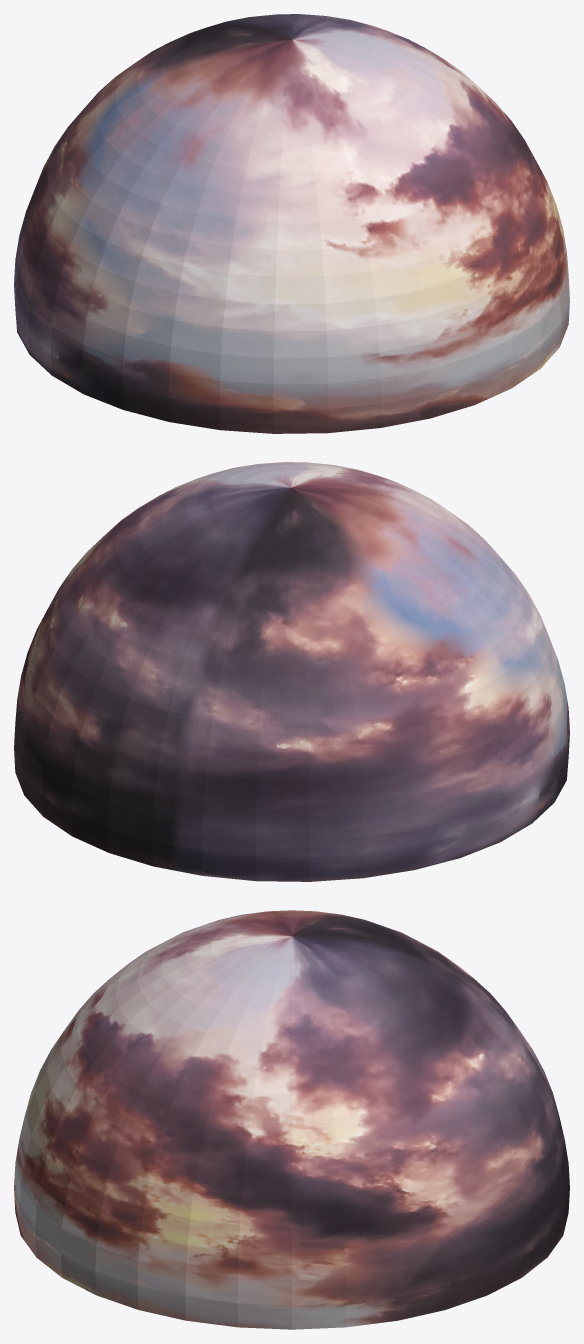
File: TownSky.fbx
The picture shows the model from 3 angles, top to bottom: view 1: azimuth 30°, elevation 25°; view 2: azimuth 150°, elevation 25°; view 3: azimuth 270°, elevation 25°; orthographic projection.
Parts seen in each view (by area): view 1: Sphere; view 2: Sphere; view 3: Sphere.
Boxes of the visible parts, x1,y1,x2,y2 form: Sphere: (14, 14, 569, 433); Sphere: (14, 462, 569, 881); Sphere: (14, 910, 569, 1329).
Bounding box in the file's own units: 200 × 110 × 200.
Materials: 1 (1 with a texture image).
